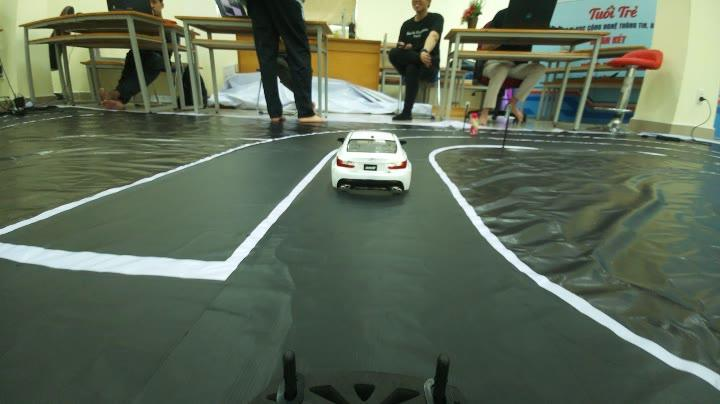car: (332, 122, 419, 205)
